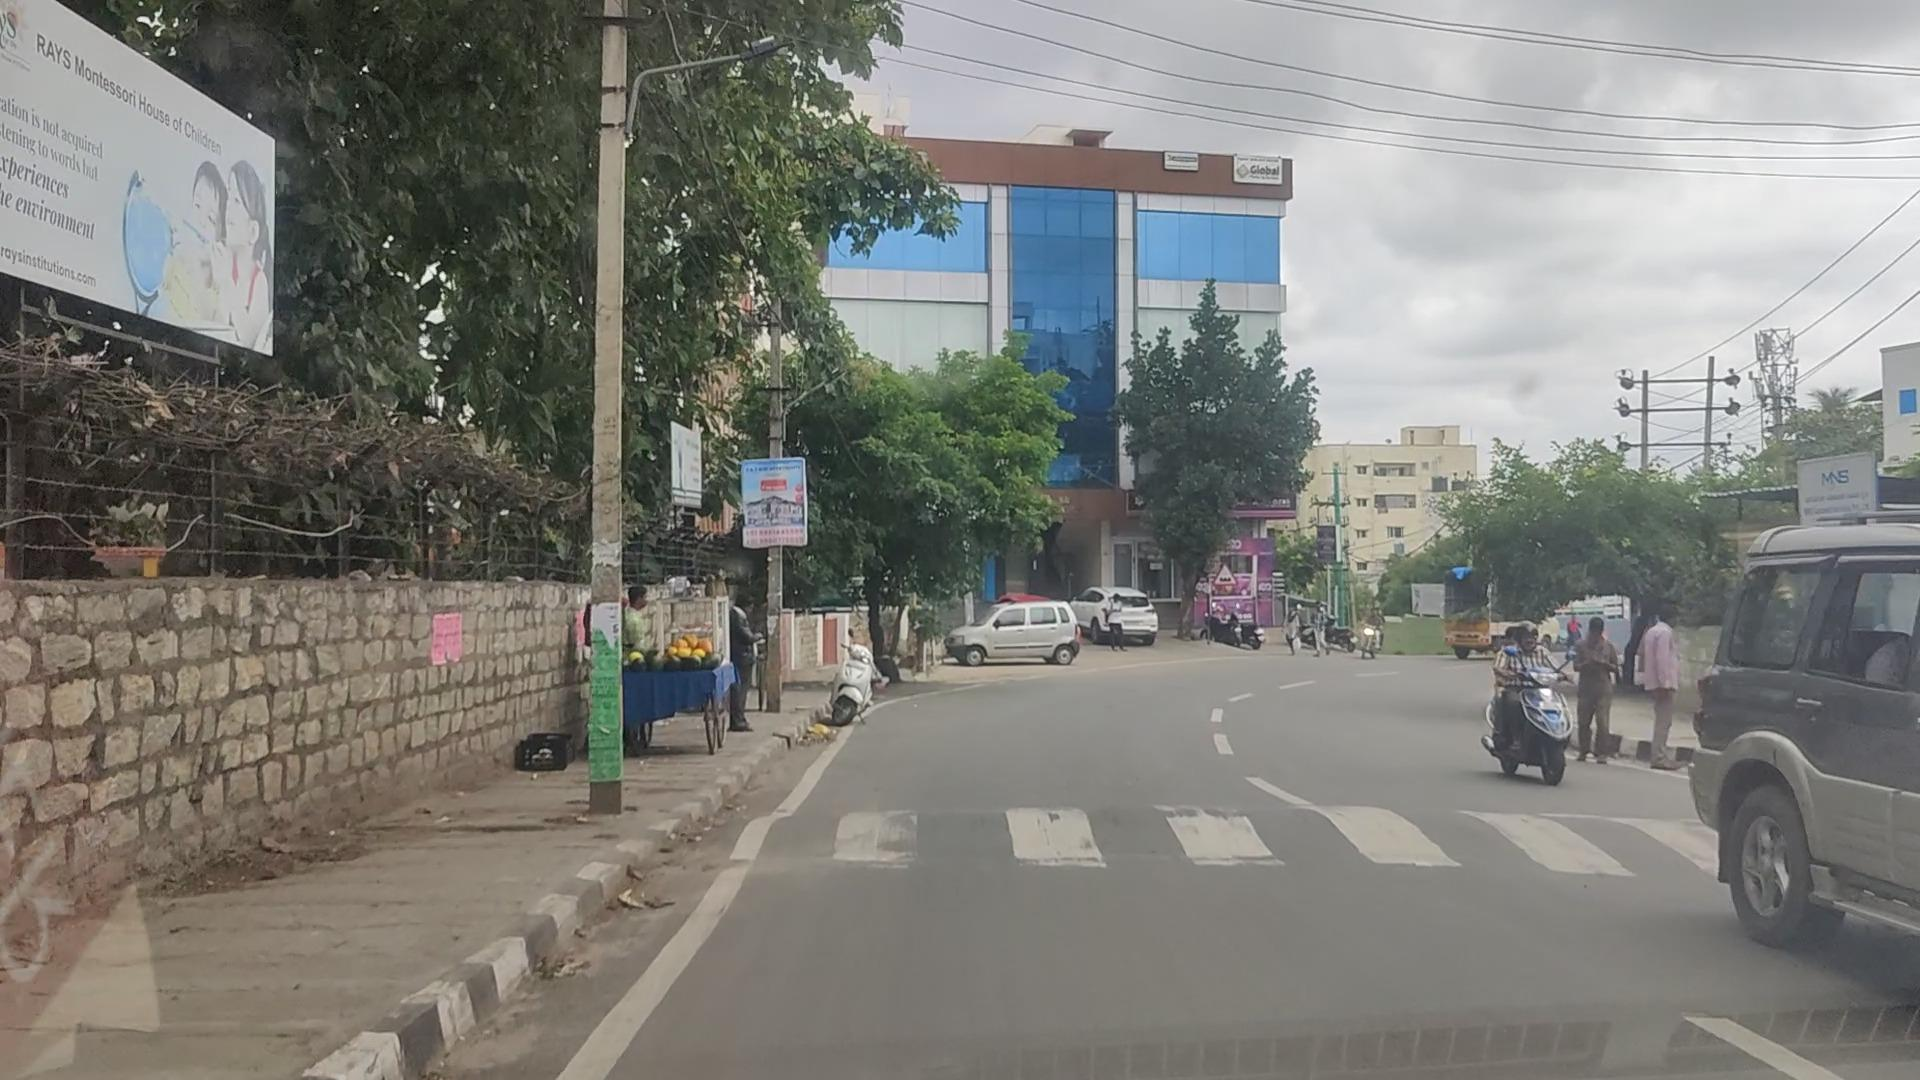LMV: (1494, 622, 1577, 774)
SpeedBump: (781, 804, 1680, 860)
